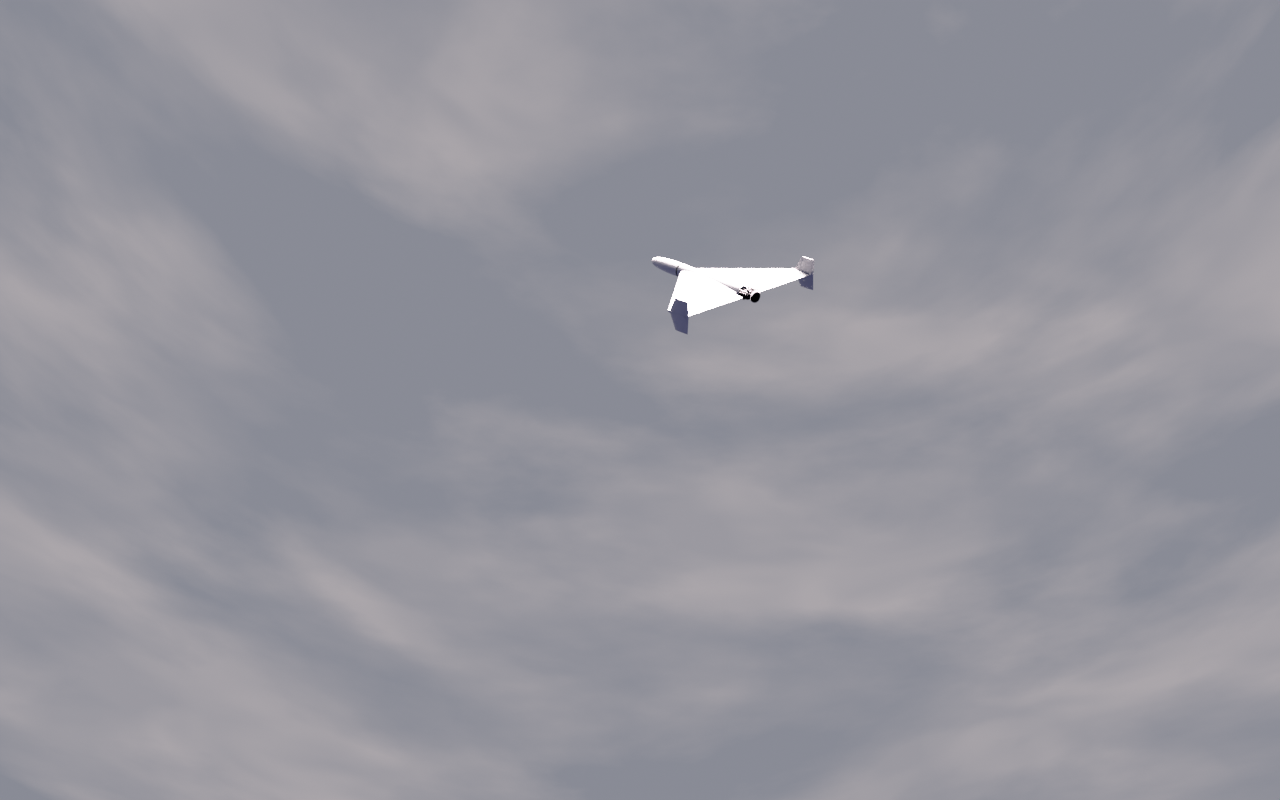shahed: (651, 257, 817, 336)
